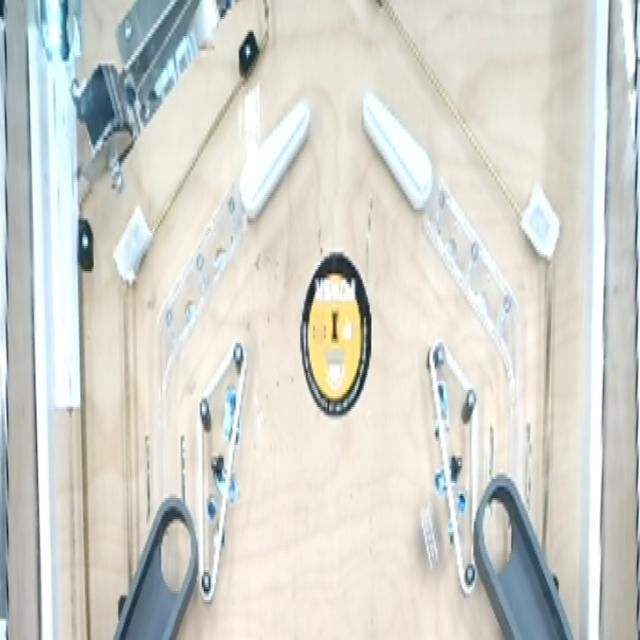ball: (414, 502, 446, 577)
flipper-left: (359, 88, 437, 220)
flipper-right: (236, 88, 313, 227)
